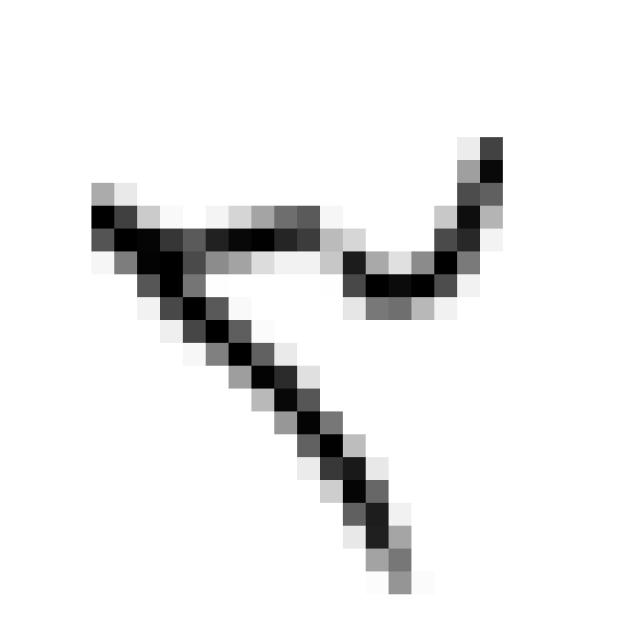3 -three-: (64, 124, 525, 617)
